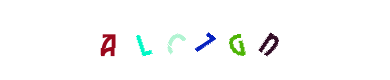7: (155, 0, 235, 80)
A: (103, 0, 183, 80)
C: (148, 0, 228, 80)
G: (166, 0, 246, 80)
L: (143, 0, 223, 80)
N: (197, 0, 277, 80)
